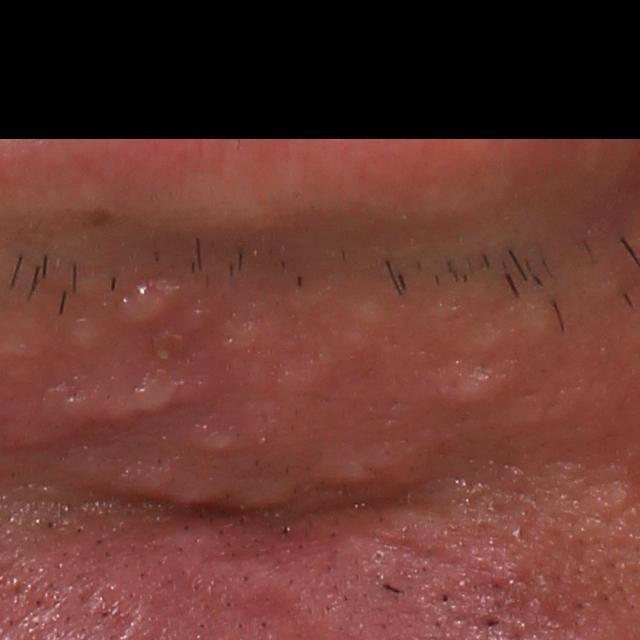hypertrophic_scar: (69, 456, 306, 518), (302, 424, 454, 509), (54, 372, 186, 432), (182, 394, 304, 454), (322, 291, 418, 350), (450, 296, 561, 345), (433, 355, 522, 409), (106, 280, 190, 330), (217, 300, 288, 353), (288, 350, 364, 394), (65, 315, 117, 356)
